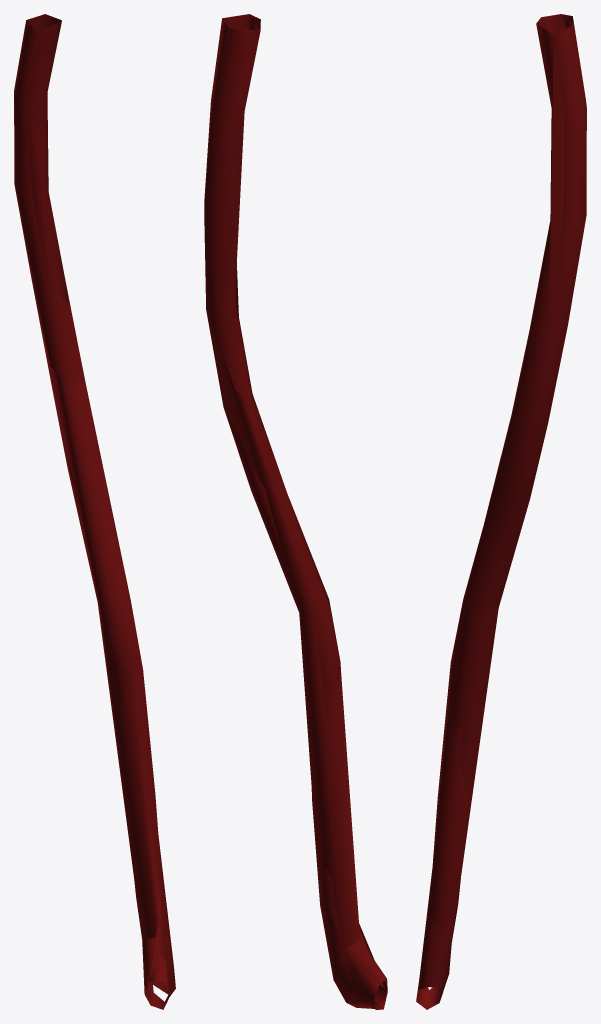
File: R digitalis palmaris communis II.fbx
3 views of the same model, side by side, from view 1: azimuth 90°, elevation 25°; view 2: azimuth 150°, elevation 25°; view 3: azimuth 270°, elevation 25° (orthographic). The views are drawn at different scales.
Visible parts, largest first — view 1: R digitalis palmaris communis II low, R digitalis palmaris communis II; view 2: R digitalis palmaris communis II low, R digitalis palmaris communis II; view 3: R digitalis palmaris communis II, R digitalis palmaris communis II low.
Part boxes in pixels (x1=…): R digitalis palmaris communis II low: x1=14, y1=16, x2=175, y2=1009; R digitalis palmaris communis II: x1=14, y1=14, x2=175, y2=1009; R digitalis palmaris communis II low: x1=204, y1=14, x2=387, y2=1009; R digitalis palmaris communis II: x1=204, y1=14, x2=387, y2=1009; R digitalis palmaris communis II: x1=416, y1=14, x2=586, y2=1009; R digitalis palmaris communis II low: x1=416, y1=14, x2=586, y2=999.
Size of the model in its own units: 1.13 by 9.19 by 1.41.
